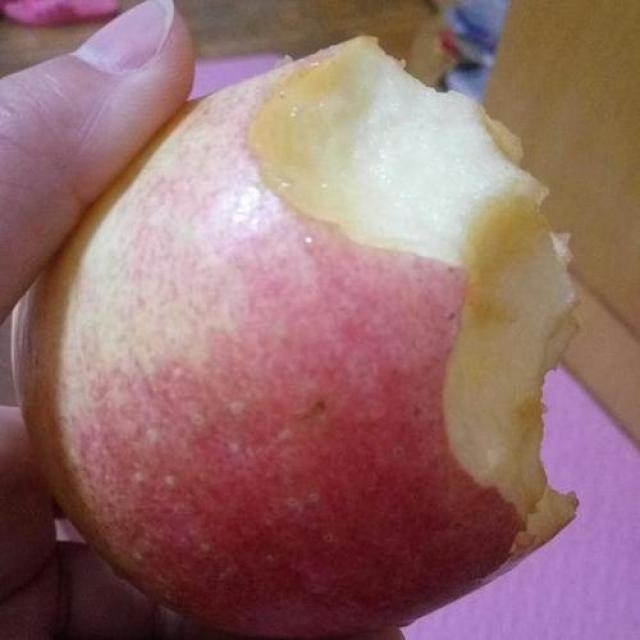Rotten: (1, 25, 584, 640)
